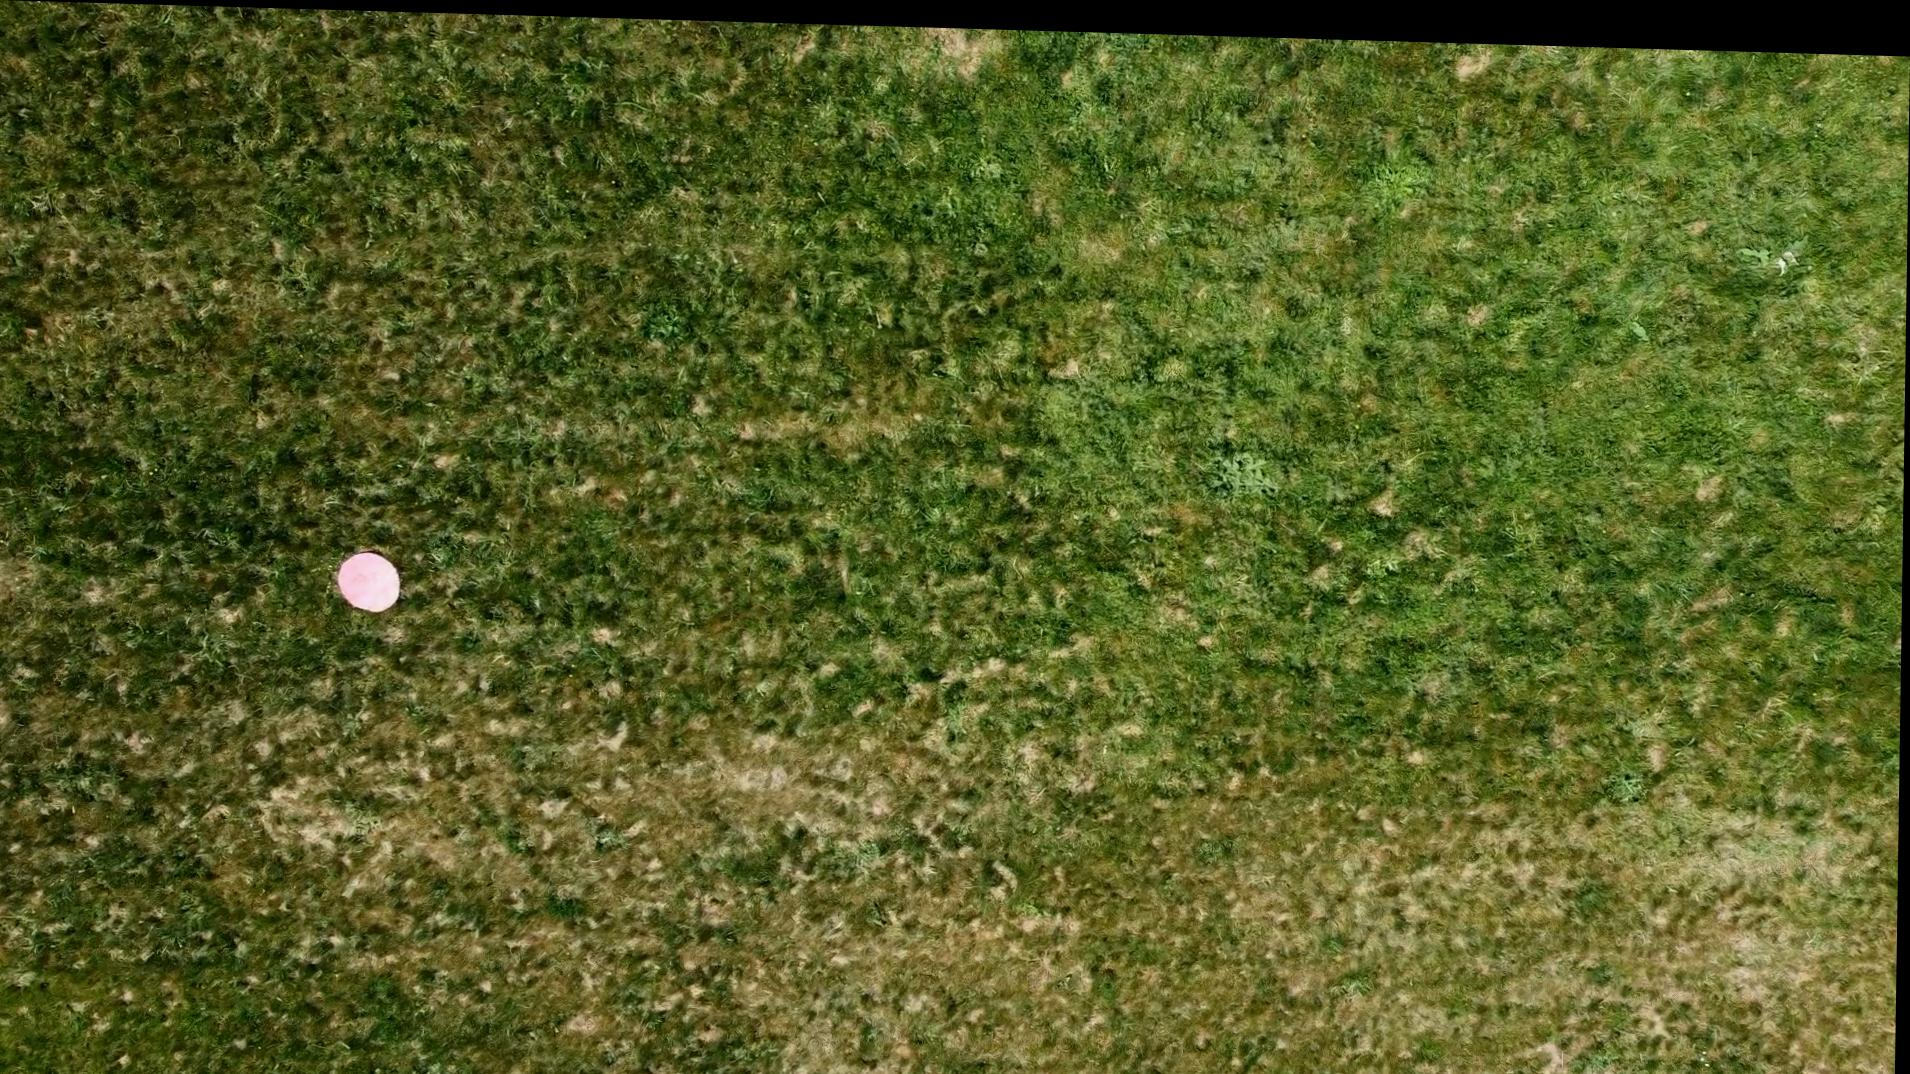Red: (336, 547, 405, 614)
